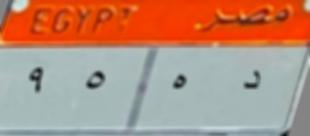5: (84, 66, 110, 96)
9: (21, 60, 49, 104)
daal: (233, 66, 269, 94)
haa: (169, 68, 190, 95)
